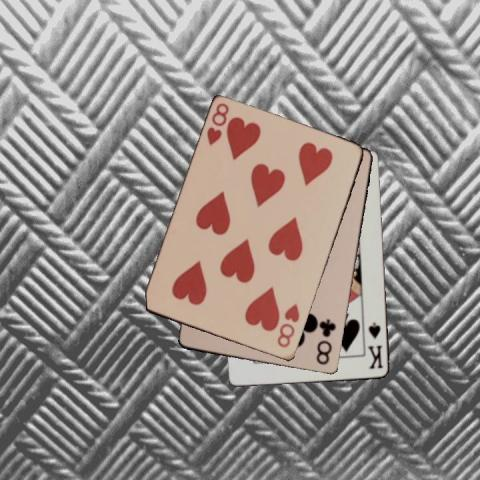8c: (313, 316, 338, 367)
8h: (274, 301, 301, 349), (204, 100, 231, 147)
Ks: (365, 319, 384, 371)
